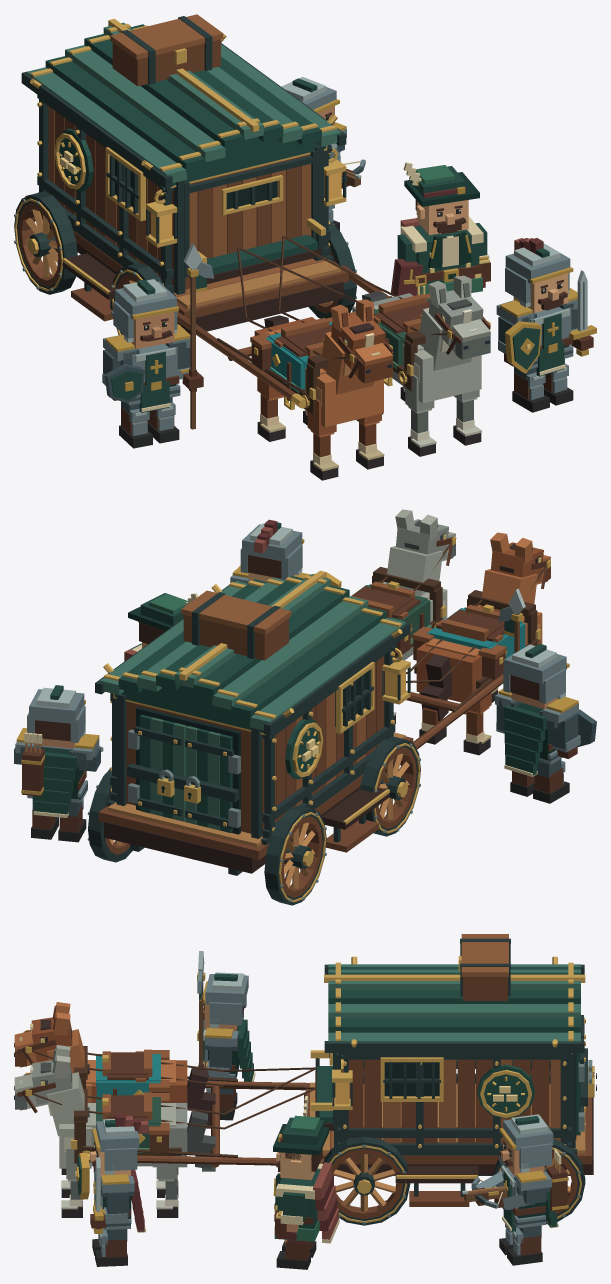
The model's file is gold-merchant-caravan.glb.
The picture shows the model from 3 angles, top to bottom: view 1: azimuth 30°, elevation 25°; view 2: azimuth 150°, elevation 25°; view 3: azimuth 270°, elevation 25°; orthographic projection. The views are drawn at different scales.
Visible parts, largest first — view 1: armored-oak-vault-cabin, stepped-green-roof, carriage-chassis-and-suspension, horse-body-mesh, locked-roof-strongbox, drivers-bench-and-lanterns, horse-body-mesh.001, spoked-rim-hub, horse-head-mesh.001, horse-head-mesh, merchant-body, guard-captain-head (+24 smaller); view 2: stepped-green-roof, armored-oak-vault-cabin, locked-double-door, carriage-chassis-and-suspension, horse-body-mesh, locked-roof-strongbox, guard-crossbow-body, spoked-rim-hub, guard-spear-body, spoked-rim-hub.001, horse-head-mesh.001, horse-head-mesh (+17 smaller); view 3: stepped-green-roof, armored-oak-vault-cabin, carriage-chassis-and-suspension, spoked-rim-hub.003, horse-body-mesh.001, drawbars-traces-and-reins, horse-body-mesh, horse-head-mesh.001, locked-roof-strongbox, merchant-body, guard-crossbow-body, merchant-head (+24 smaller).
Part boxes in pixels (x1,y1,x2,y2): armored-oak-vault-cabin: [37, 95, 330, 294]; stepped-green-roof: [21, 18, 346, 188]; carriage-chassis-and-suspension: [25, 195, 348, 334]; horse-body-mesh: [250, 317, 383, 427]; locked-roof-strongbox: [110, 14, 223, 86]; drivers-bench-and-lanterns: [146, 145, 346, 284]; horse-body-mesh.001: [349, 293, 481, 403]; spoked-rim-hub: [14, 192, 77, 294]; horse-head-mesh.001: [419, 275, 490, 370]; horse-head-mesh: [322, 299, 392, 394]; merchant-body: [400, 216, 485, 294]; guard-captain-head: [505, 238, 573, 313]; stepped-green-roof: [95, 570, 410, 735]; armored-oak-vault-cabin: [110, 647, 395, 839]; locked-double-door: [127, 706, 240, 834]; carriage-chassis-and-suspension: [98, 732, 413, 875]; horse-body-mesh: [412, 604, 542, 702]; locked-roof-strongbox: [181, 590, 291, 660]; guard-crossbow-body: [15, 728, 99, 817]; spoked-rim-hub: [264, 805, 326, 905]; guard-spear-body: [495, 688, 578, 776]; spoked-rim-hub.001: [360, 736, 420, 836]; horse-head-mesh.001: [385, 509, 456, 596]; horse-head-mesh: [480, 532, 550, 611]; stepped-green-roof: [324, 956, 585, 1052]; armored-oak-vault-cabin: [329, 1053, 575, 1152]; carriage-chassis-and-suspension: [304, 1082, 593, 1206]; spoked-rim-hub.003: [322, 1136, 410, 1225]; horse-body-mesh.001: [59, 1092, 187, 1168]; drawbars-traces-and-reins: [32, 1050, 324, 1167]; horse-body-mesh: [86, 1049, 187, 1102]; horse-head-mesh.001: [14, 1045, 89, 1136]; locked-roof-strongbox: [458, 934, 510, 1000]; merchant-body: [273, 1162, 339, 1243]; guard-crossbow-body: [499, 1149, 568, 1231]; merchant-head: [273, 1096, 329, 1179].
Bounding box in the file's own units: 7.56 × 4.3 × 9.87.
